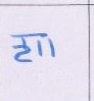aa_matra: (48, 39, 55, 56)
